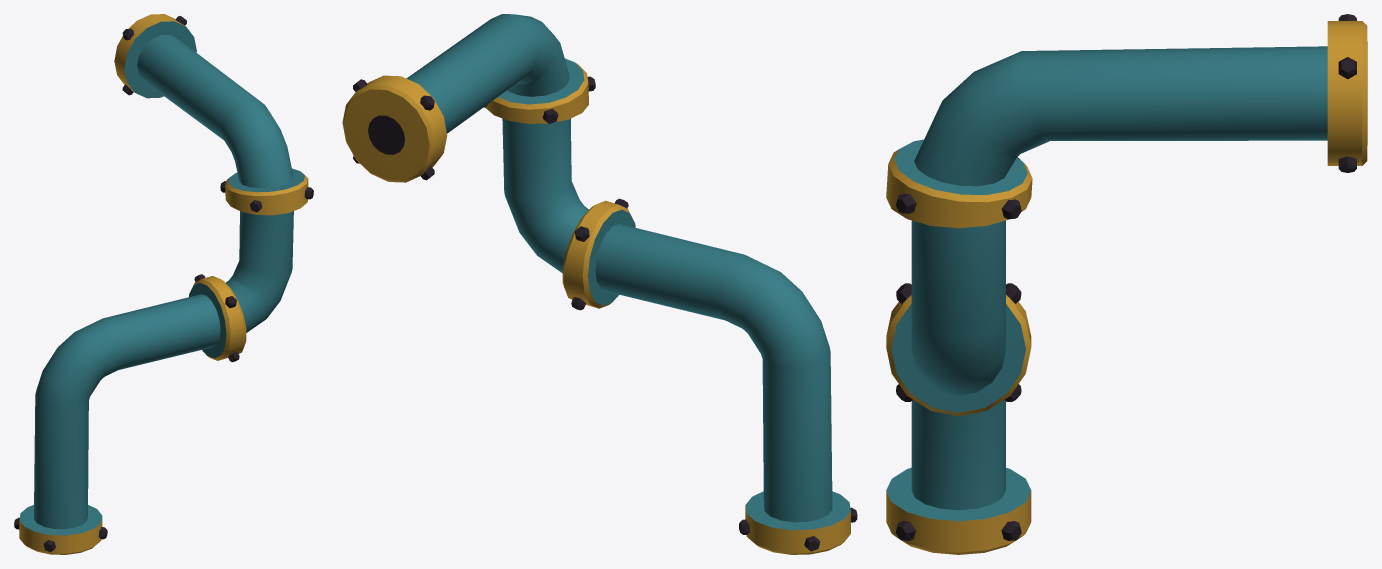
File: PipeRun_03.glb
3 renders of one model, left to right at view 1: azimuth 30°, elevation 25°; view 2: azimuth 150°, elevation 25°; view 3: azimuth 270°, elevation 25°, orthographic. The views are drawn at different scales.
Parts seen in each view (by area): view 1: PipeRun_03; view 2: PipeRun_03; view 3: PipeRun_03.
Boxes of the visible parts, x1=… form: PipeRun_03: x1=14, y1=14, x2=313, y2=554; PipeRun_03: x1=342, y1=14, x2=857, y2=554; PipeRun_03: x1=886, y1=14, x2=1367, y2=554.
Bounding box in the file's own units: 4.18 × 5.57 × 3.61.
